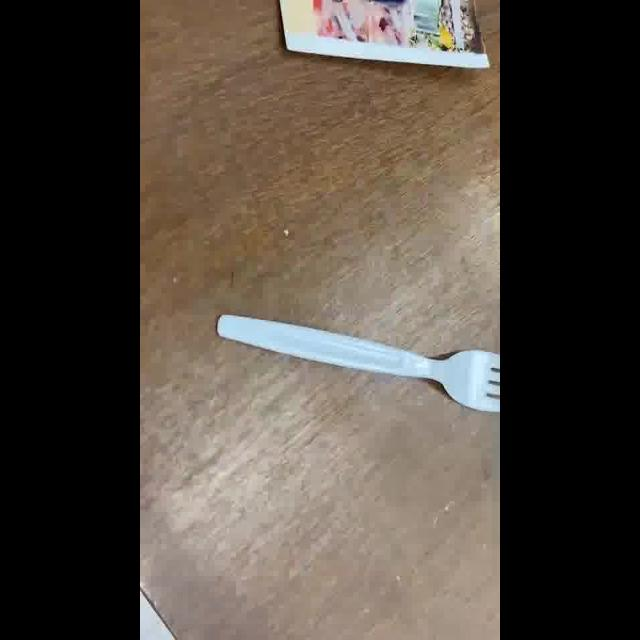plastic_cultery: (215, 314, 499, 412)
